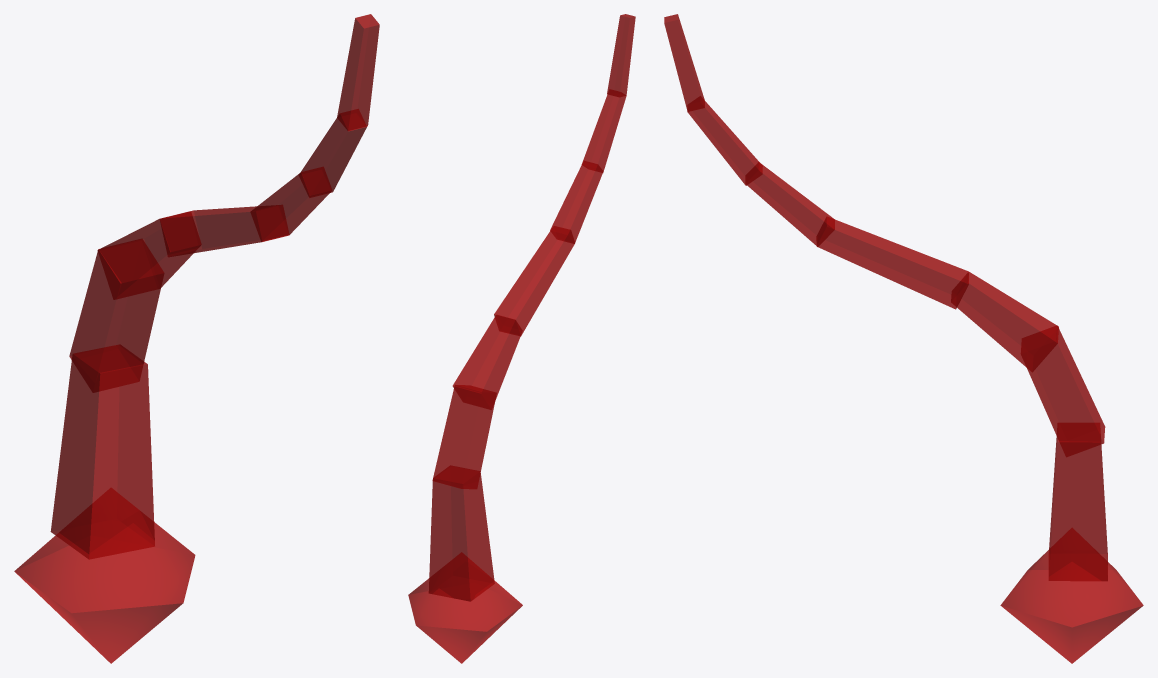
The model's file is SM_Env_Tree_Palm_04_Collision.fbx.
3 renders of one model, left to right at view 1: azimuth 30°, elevation 25°; view 2: azimuth 150°, elevation 25°; view 3: azimuth 270°, elevation 25°, orthographic. The views are drawn at different scales.
Parts seen in each view (by area): view 1: SM_Env_Tree_Palm_04_Collision; view 2: SM_Env_Tree_Palm_04_Collision; view 3: SM_Env_Tree_Palm_04_Collision.
Part boxes in pixels (<box>): SM_Env_Tree_Palm_04_Collision: <box>14,14,379,663</box>; SM_Env_Tree_Palm_04_Collision: <box>408,14,635,663</box>; SM_Env_Tree_Palm_04_Collision: <box>664,14,1143,663</box>.
Bounding box in the file's own units: 106 × 553 × 372.
